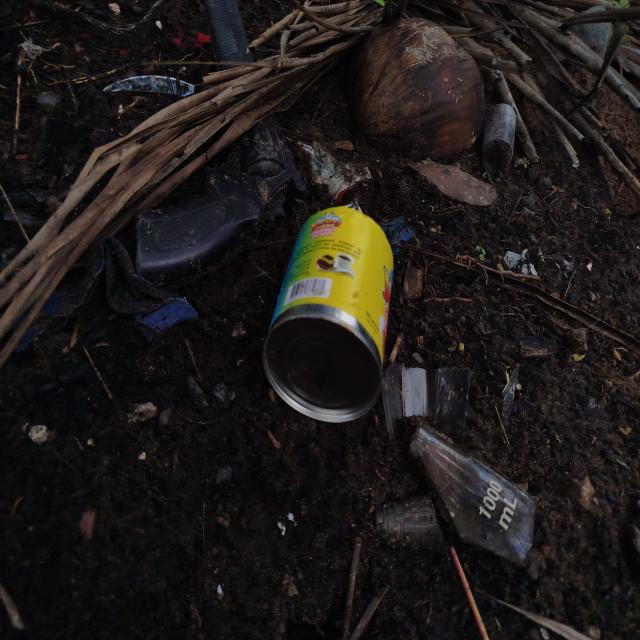metal: (257, 189, 399, 430)
